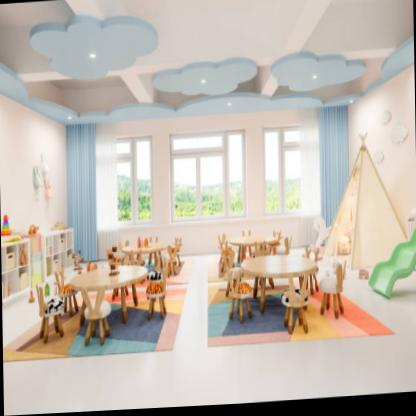Window: (169, 133, 247, 225), (262, 126, 300, 218), (114, 136, 153, 225)
